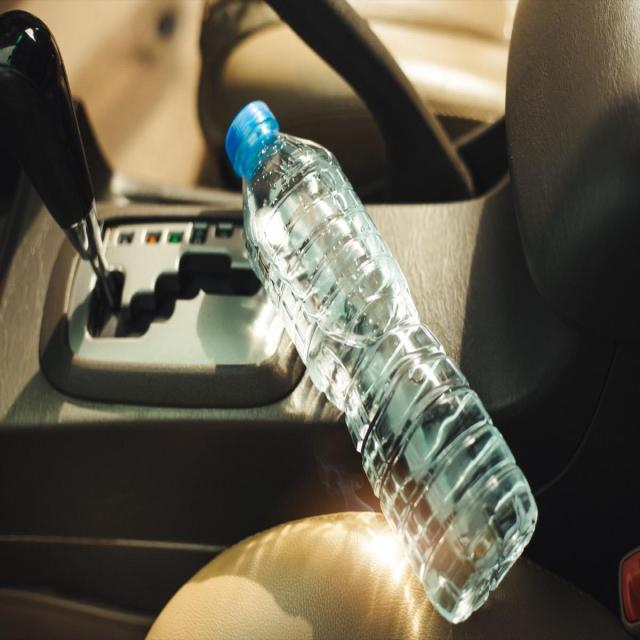bottle: (220, 70, 551, 640)
